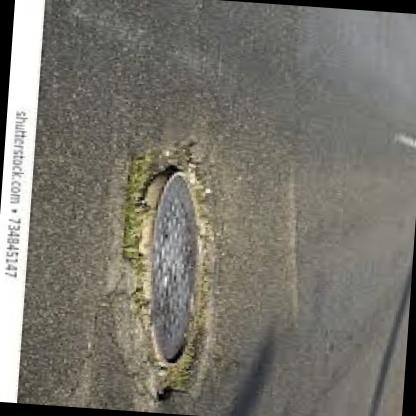manholes: (60, 146, 242, 396)
